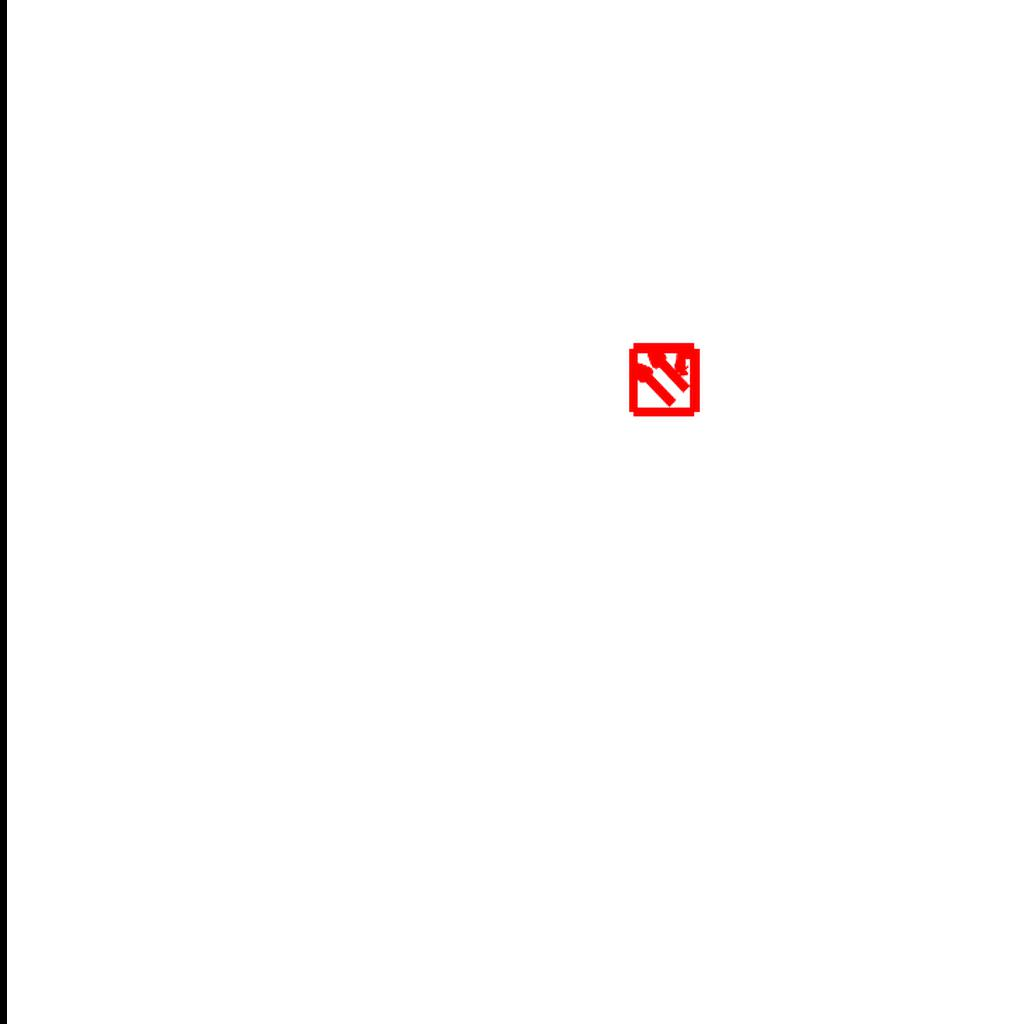OT_Multisensormelder_(Kombination_RMO_WMD): (608, 321, 721, 434)
